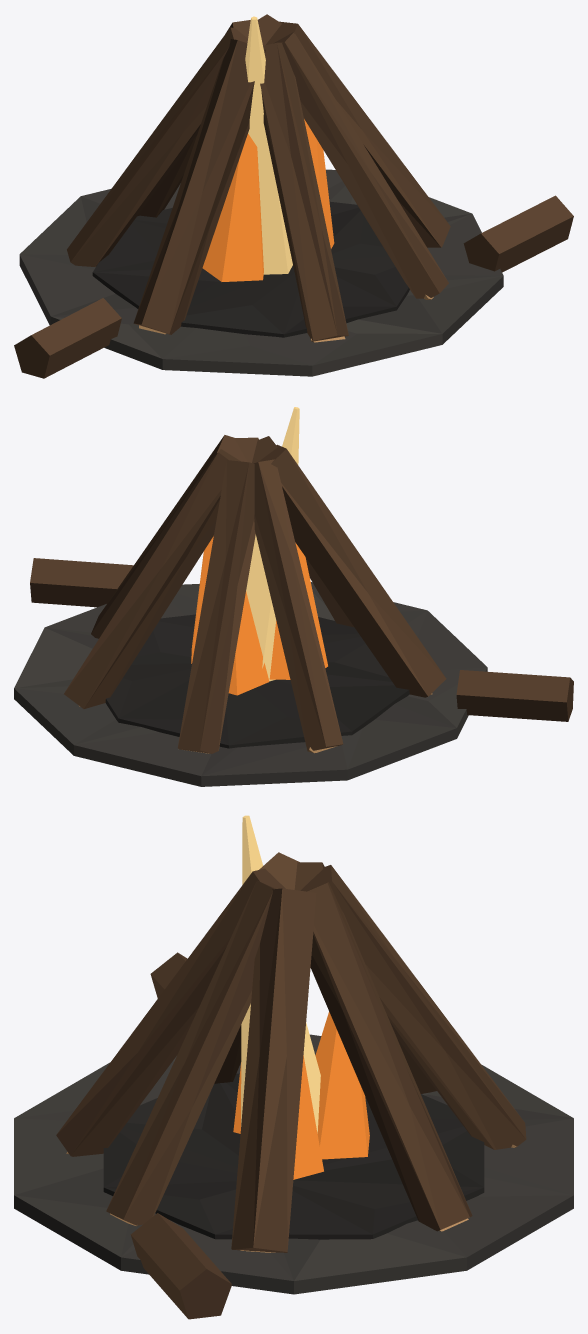
Rendered from campfire_prostoy_idle.glb.
The picture shows the model from 3 angles, top to bottom: view 1: azimuth 30°, elevation 25°; view 2: azimuth 150°, elevation 25°; view 3: azimuth 270°, elevation 25°; orthographic projection. The views are drawn at different scales.
Parts seen in each view (by area): view 1: campfire_prostoy_idle; view 2: campfire_prostoy_idle; view 3: campfire_prostoy_idle.
Boxes of the visible parts, <box> form: campfire_prostoy_idle: <box>14,14,573,378</box>; campfire_prostoy_idle: <box>14,407,573,786</box>; campfire_prostoy_idle: <box>14,815,573,1319</box>.
Bounding box in the file's own units: 0.7834 × 0.3855 × 0.5706.
Materials: 2 (2 with a texture image).
